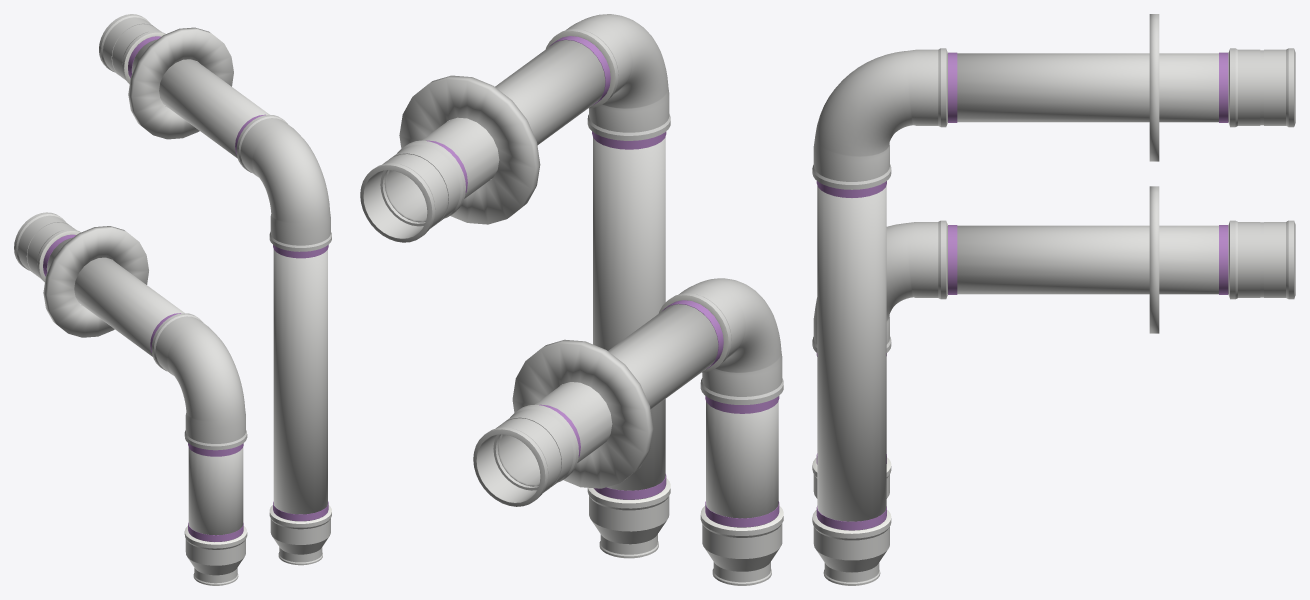
The model's file is slab_pipes_gas__water_heater-garage_tankless.glb.
The picture shows the model from 3 angles, left to right: view 1: azimuth 30°, elevation 25°; view 2: azimuth 150°, elevation 25°; view 3: azimuth 270°, elevation 25°; orthographic projection. The views are drawn at different scales.
Parts seen in each view (by area): view 1: vent_wh_tankless_intake, vent_wh_tankless_exhaust, term_plate_wh_tankless_exhaust, term_plate_wh_tankless_intake, fit_adapter_vent_wh_tankless_exhaust, fit_adapter_vent_wh_tankless_intake, term_wh_tankless_exhaust, term_wh_tankless_intake; view 2: vent_wh_tankless_intake, vent_wh_tankless_exhaust, term_plate_wh_tankless_intake, term_plate_wh_tankless_exhaust, term_wh_tankless_intake, term_wh_tankless_exhaust, fit_adapter_vent_wh_tankless_exhaust, fit_adapter_vent_wh_tankless_intake; view 3: vent_wh_tankless_intake, vent_wh_tankless_exhaust, term_wh_tankless_intake, term_wh_tankless_exhaust, fit_adapter_vent_wh_tankless_intake, term_plate_wh_tankless_exhaust, term_plate_wh_tankless_intake.
Part boxes in pixels (left/top/right/bottom): vent_wh_tankless_intake: left=131, top=36, right=331, bottom=521; vent_wh_tankless_exhaust: left=43, top=238, right=247, bottom=541; term_plate_wh_tankless_exhaust: left=43, top=226, right=148, bottom=337; term_plate_wh_tankless_intake: left=128, top=27, right=233, bottom=139; fit_adapter_vent_wh_tankless_exhaust: left=184, top=522, right=247, bottom=585; fit_adapter_vent_wh_tankless_intake: left=269, top=501, right=331, bottom=565; term_wh_tankless_exhaust: left=14, top=212, right=80, bottom=282; term_wh_tankless_intake: left=99, top=14, right=165, bottom=83; vent_wh_tankless_intake: left=384, top=14, right=670, bottom=499; vent_wh_tankless_exhaust: left=498, top=278, right=783, bottom=527; term_plate_wh_tankless_intake: left=399, top=75, right=540, bottom=224; term_plate_wh_tankless_exhaust: left=512, top=339, right=653, bottom=488; term_wh_tankless_intake: left=360, top=140, right=467, bottom=242; term_wh_tankless_exhaust: left=473, top=404, right=580, bottom=506; fit_adapter_vent_wh_tankless_exhaust: left=700, top=501, right=783, bottom=585; fit_adapter_vent_wh_tankless_intake: left=587, top=474, right=670, bottom=558; vent_wh_tankless_intake: left=812, top=48, right=1228, bottom=530; vent_wh_tankless_exhaust: left=812, top=220, right=1228, bottom=356; term_wh_tankless_intake: left=1219, top=48, right=1295, bottom=127; term_wh_tankless_exhaust: left=1219, top=220, right=1295, bottom=299; fit_adapter_vent_wh_tankless_intake: left=812, top=506, right=891, bottom=585; term_plate_wh_tankless_exhaust: left=1149, top=186, right=1159, bottom=333; term_plate_wh_tankless_intake: left=1149, top=14, right=1159, bottom=161.
Bounding box in the file's own units: 0.3301 × 0.7413 × 0.5851.
